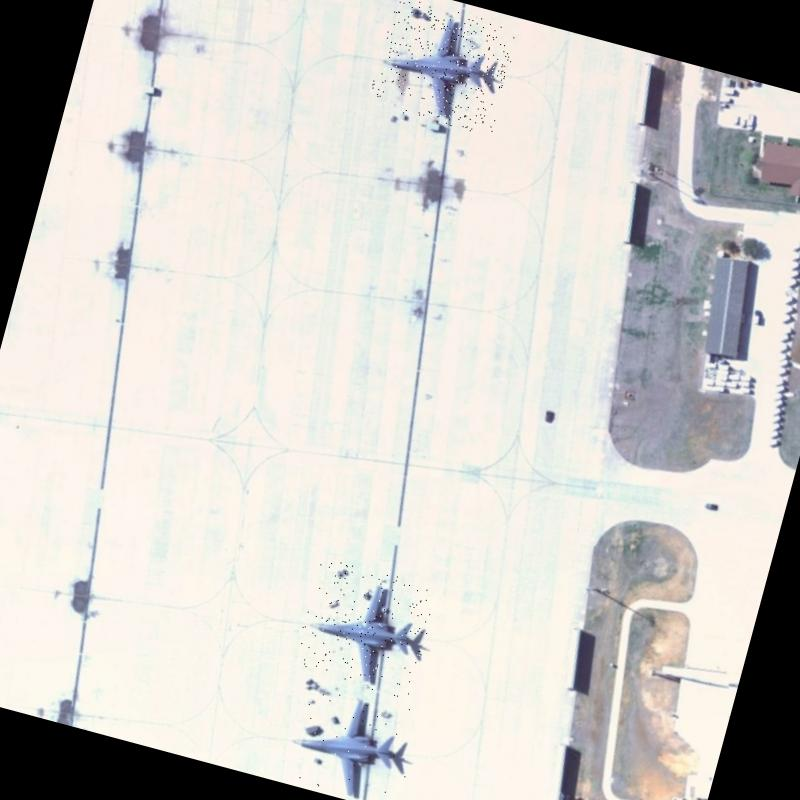A10: (290, 556, 438, 700), (365, 0, 519, 136), (286, 681, 427, 800)
